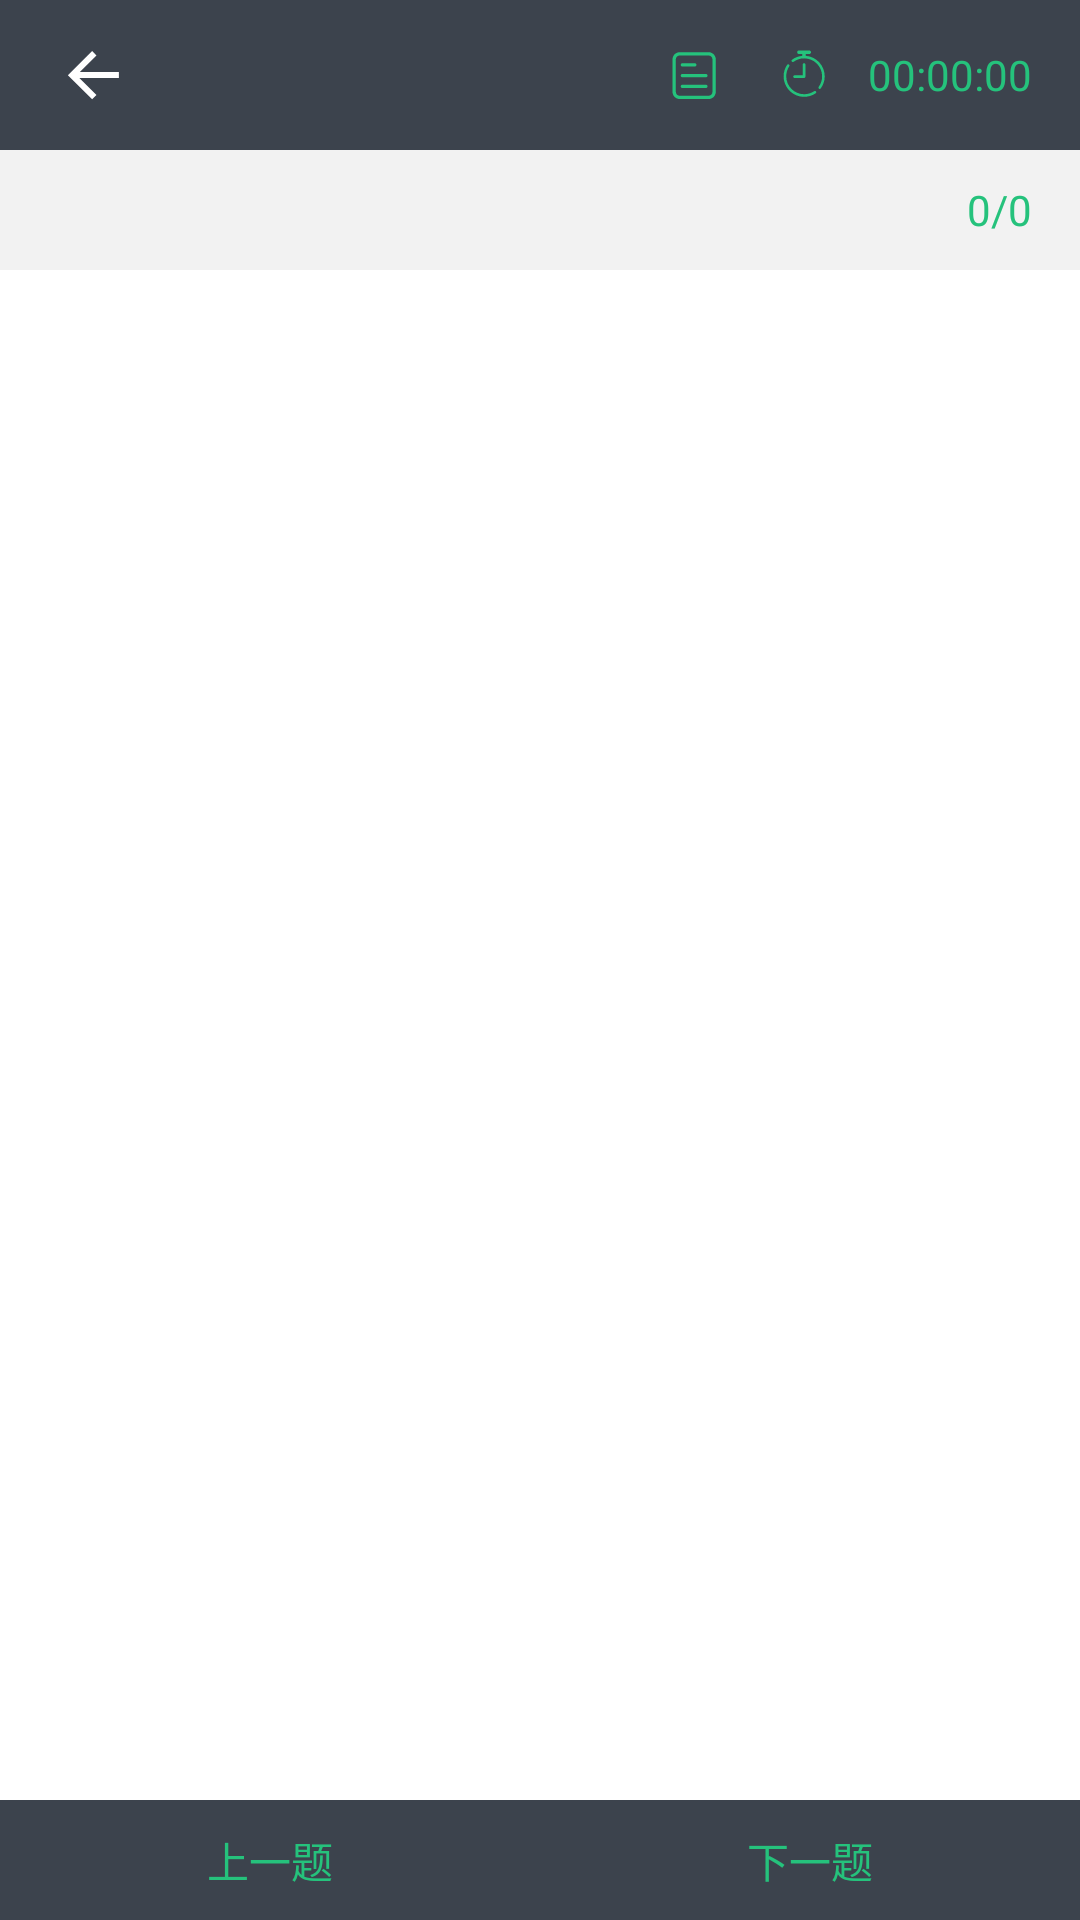

Locate icon controls on the screen. Image size 1080px x 1920px, boxes as {"x1": x1, "y1": y1, "x2": x2, "y2": y2}.
back: {"x1": 68, "y1": 51, "x2": 119, "y2": 99}
questions: {"x1": 672, "y1": 52, "x2": 716, "y2": 99}
timer: {"x1": 783, "y1": 50, "x2": 825, "y2": 97}
